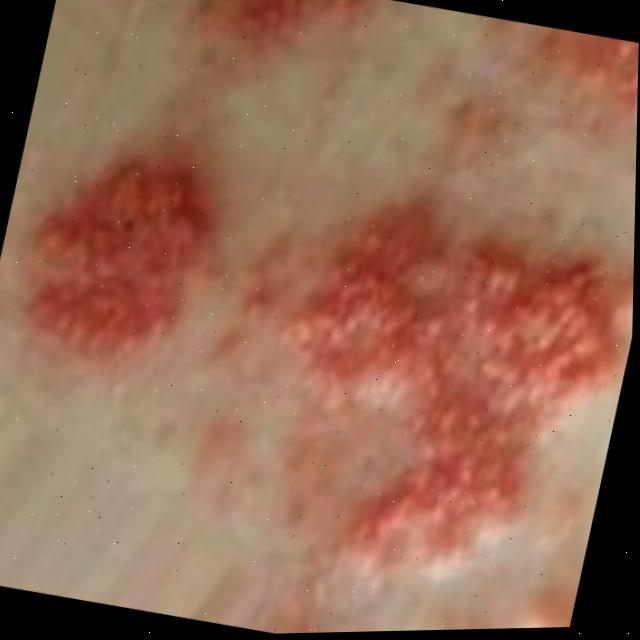Shingles: (225, 194, 635, 616), (5, 144, 220, 371), (522, 22, 639, 122), (199, 0, 371, 66)
